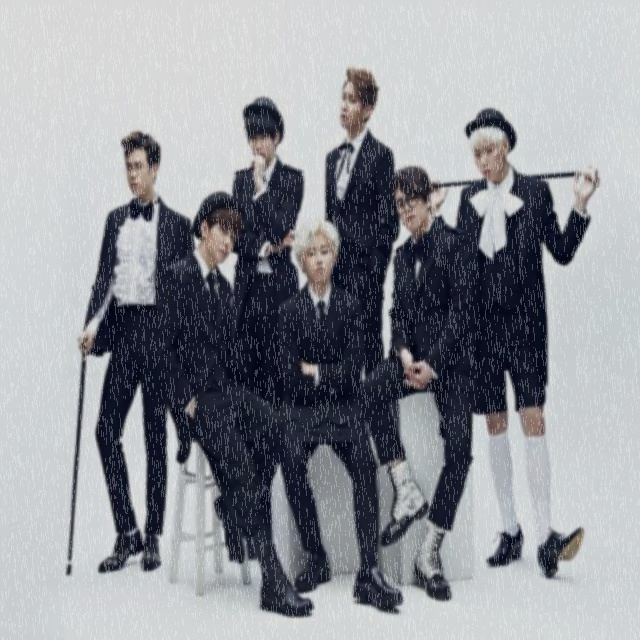pessoa: (424, 104, 604, 582), (143, 183, 314, 622), (353, 160, 479, 604), (271, 212, 409, 615), (75, 127, 196, 582), (321, 67, 402, 380), (228, 94, 304, 409)
